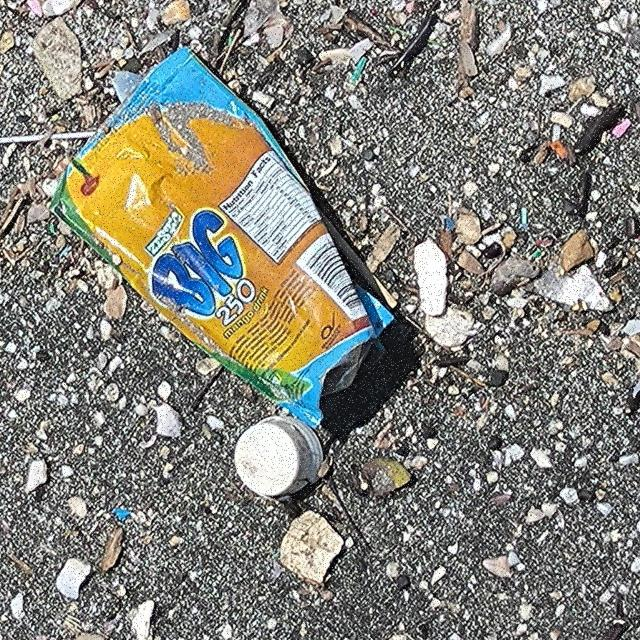plastic_waste: (49, 50, 396, 430), (234, 416, 327, 498), (1, 131, 97, 146)
